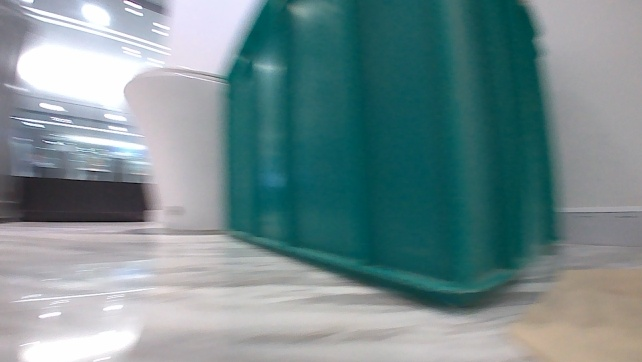toilet: (118, 62, 231, 236)
